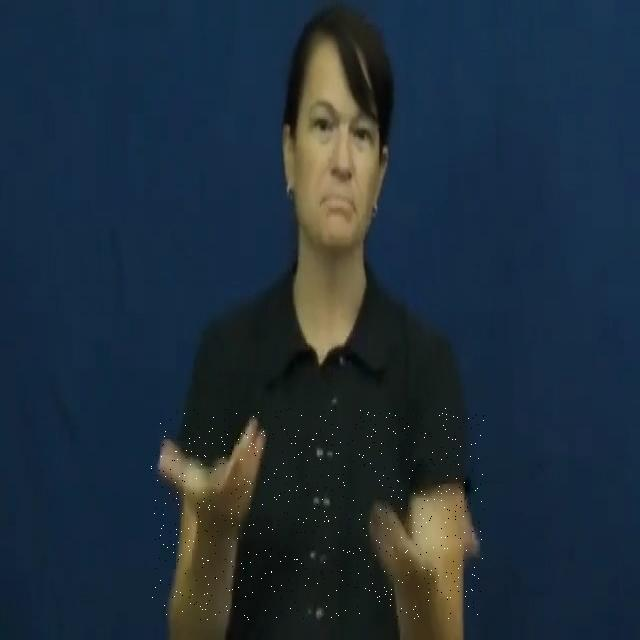lid: (150, 407, 484, 620)
